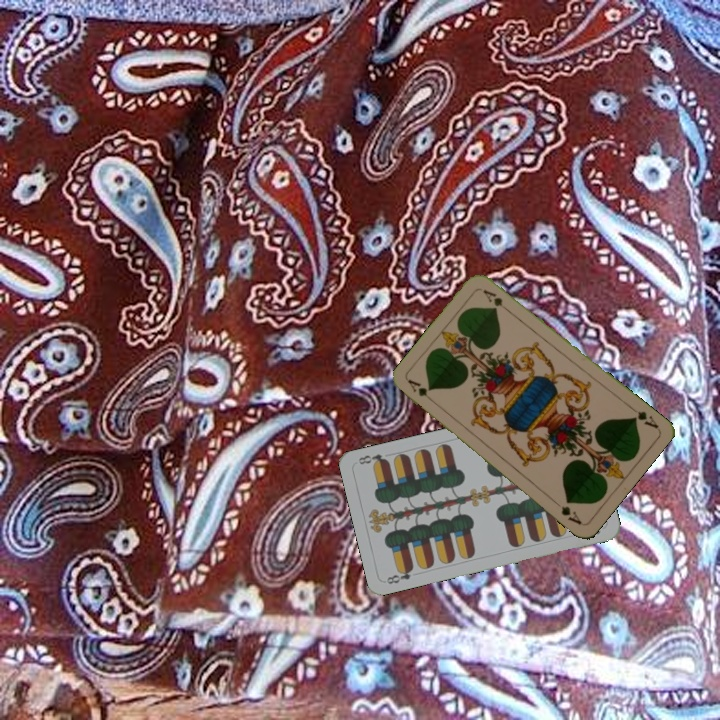E8: (383, 563, 416, 587)
GA: (625, 402, 661, 431), (404, 376, 438, 406)
